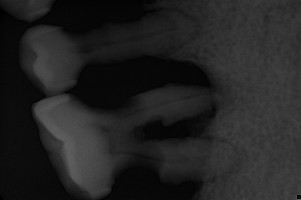Dental Caries: (136, 64, 247, 200)
